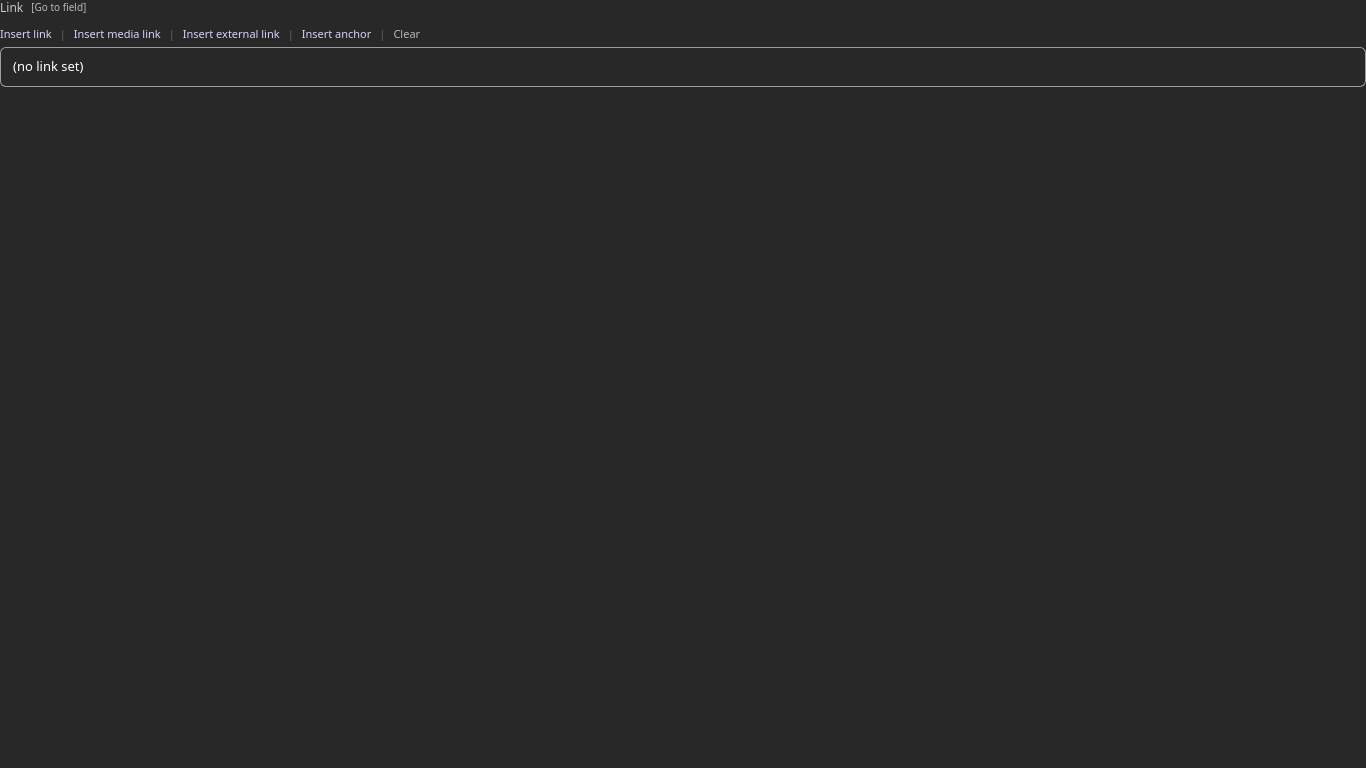
Test: GeneralLinkFieldEditor Insert link integration › clicking Insert anchor opens the InsertAnchorDialog
The image size is (1366, 768).
What coordinates should you click on to do the following:
click the button "Insert anchor"
I would click on:
 (336, 34)
Its box is [302,26,371,42].
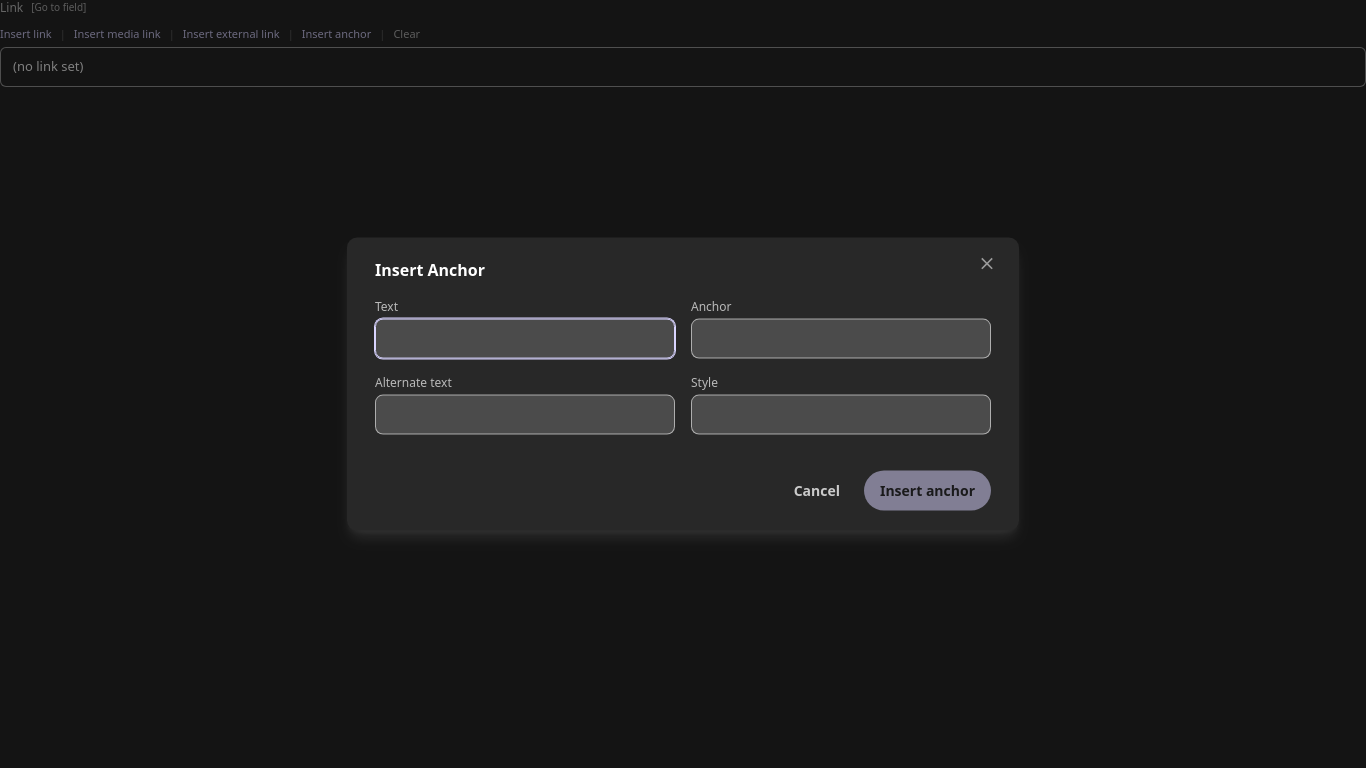
Now the heading "Insert Anchor" is shown, box [375,259,485,281]
